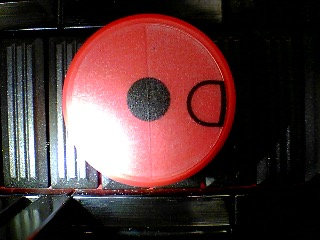BOHOMIPO1: (61, 13, 236, 187)
